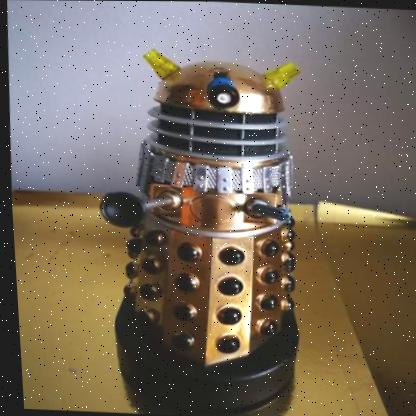dalek: (72, 34, 342, 410)
